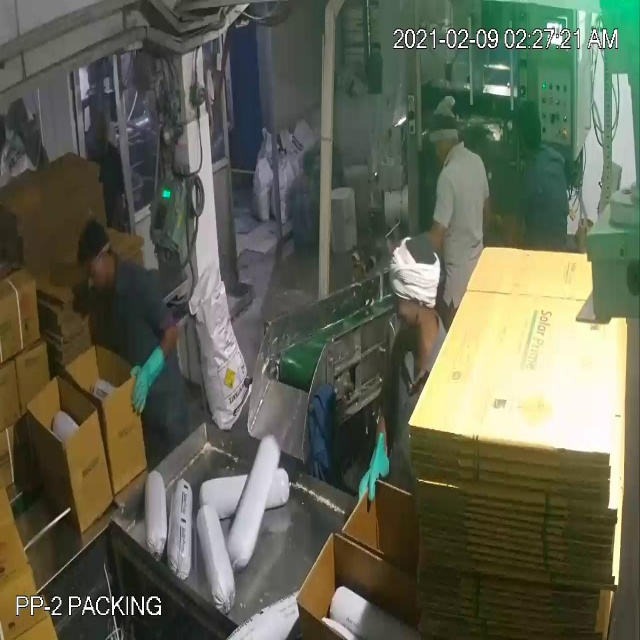Guantes: (122, 330, 173, 428), (349, 413, 394, 522)
